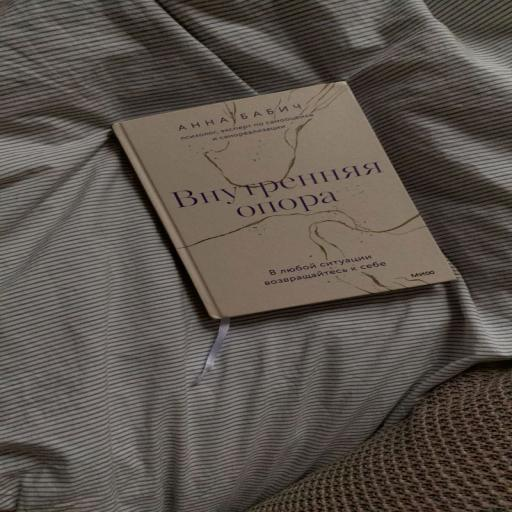bed: (113, 82, 455, 318)
